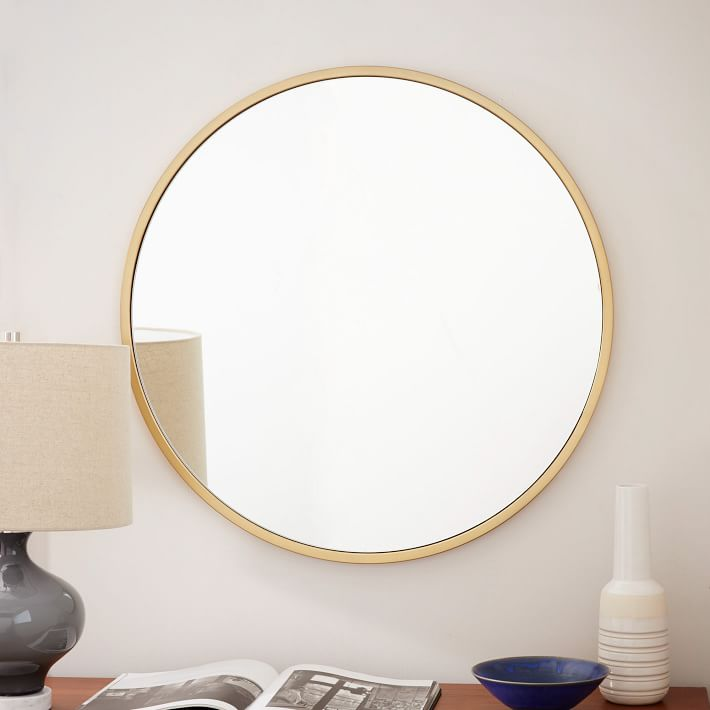Nonrec_Glass: (98, 62, 629, 565)
